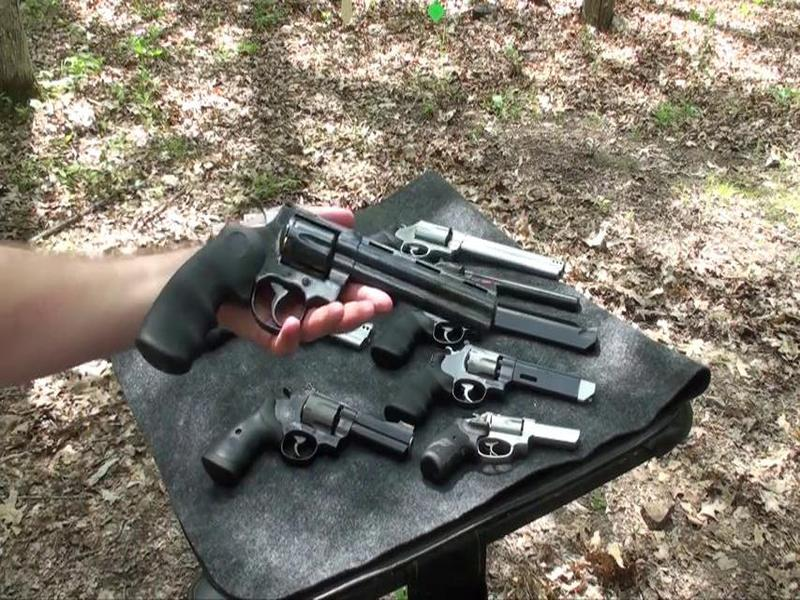Revolver: (155, 195, 509, 427)
